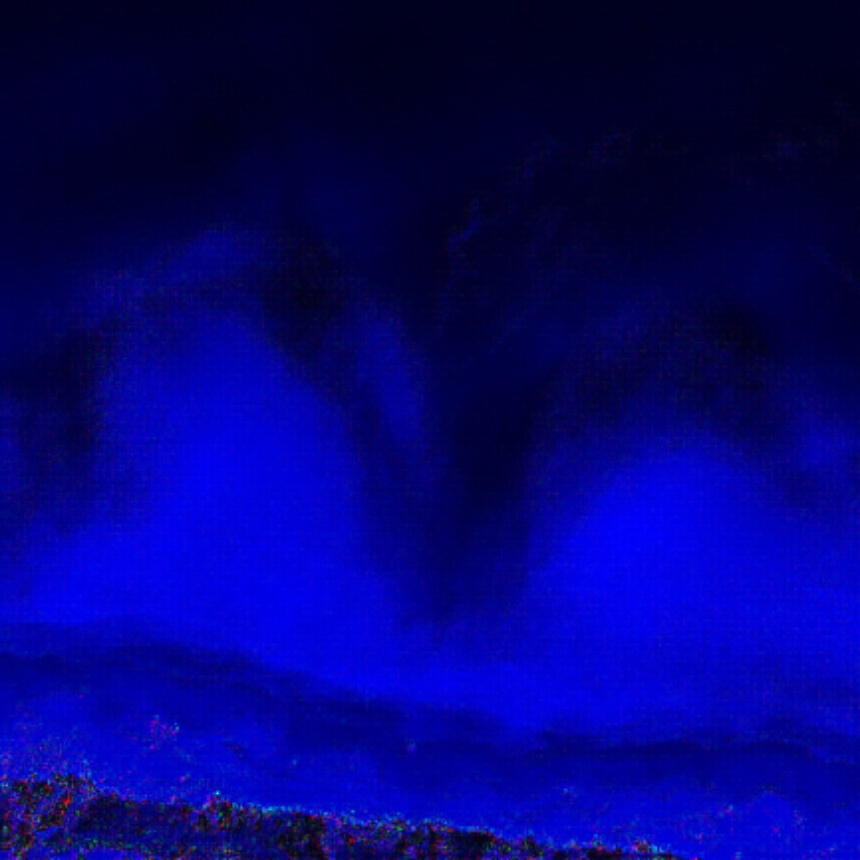rip_current: (282, 217, 614, 617)
